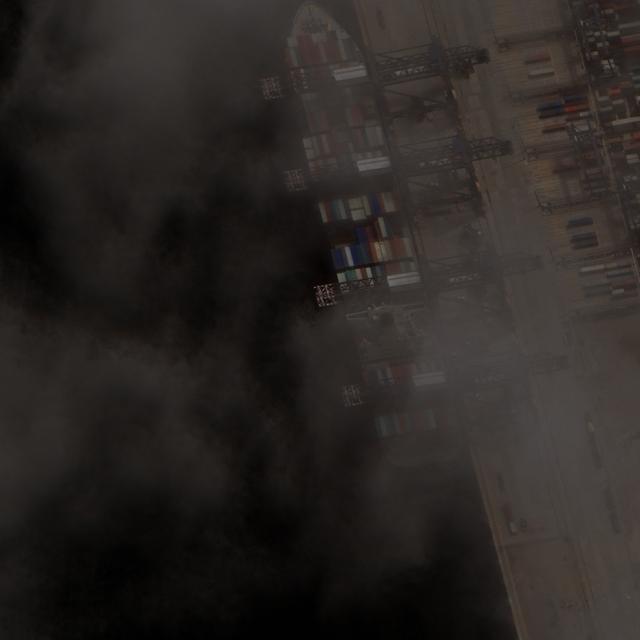Container Ship: (267, 1, 469, 463)
